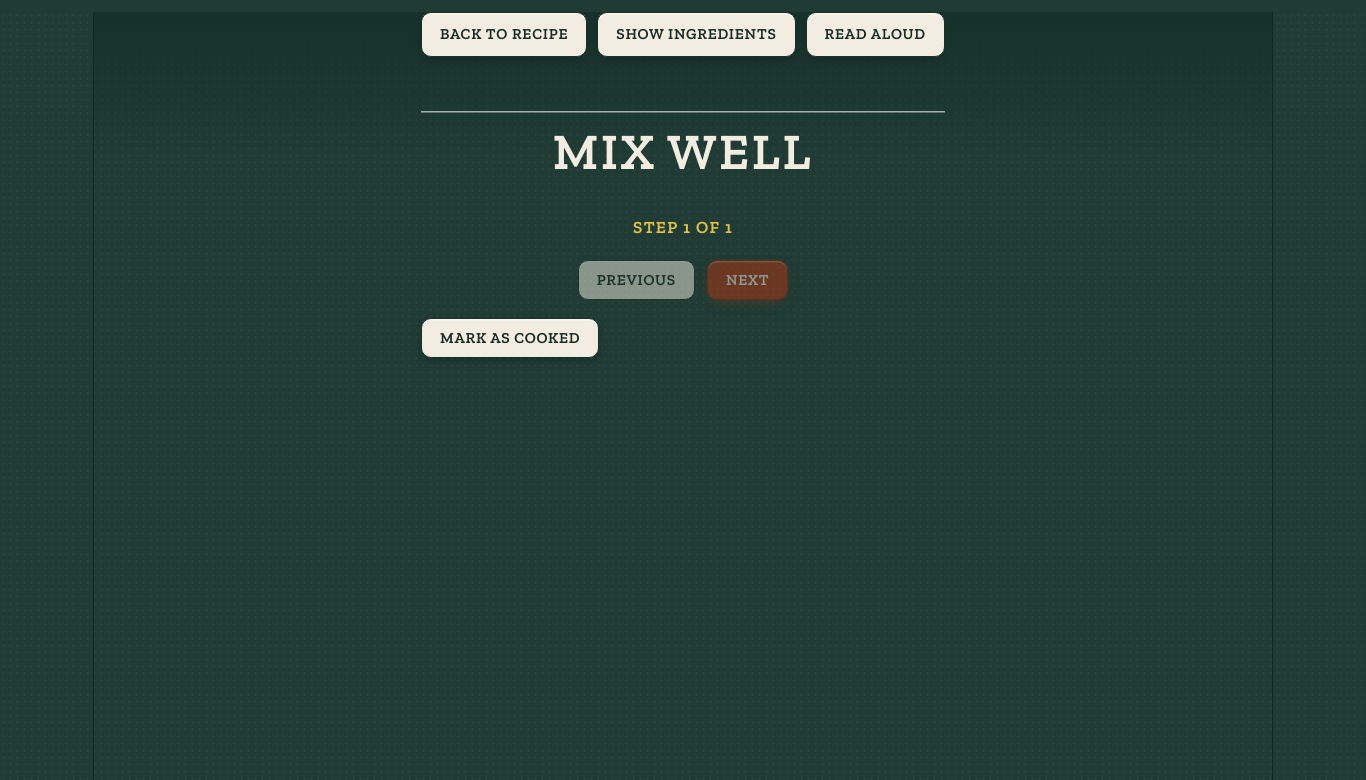
Test: after marking cooked, offers only the cupboard items that recipe used
Click the button "Mark as cooked".
click(510, 338)  # box [421,318,599,358]
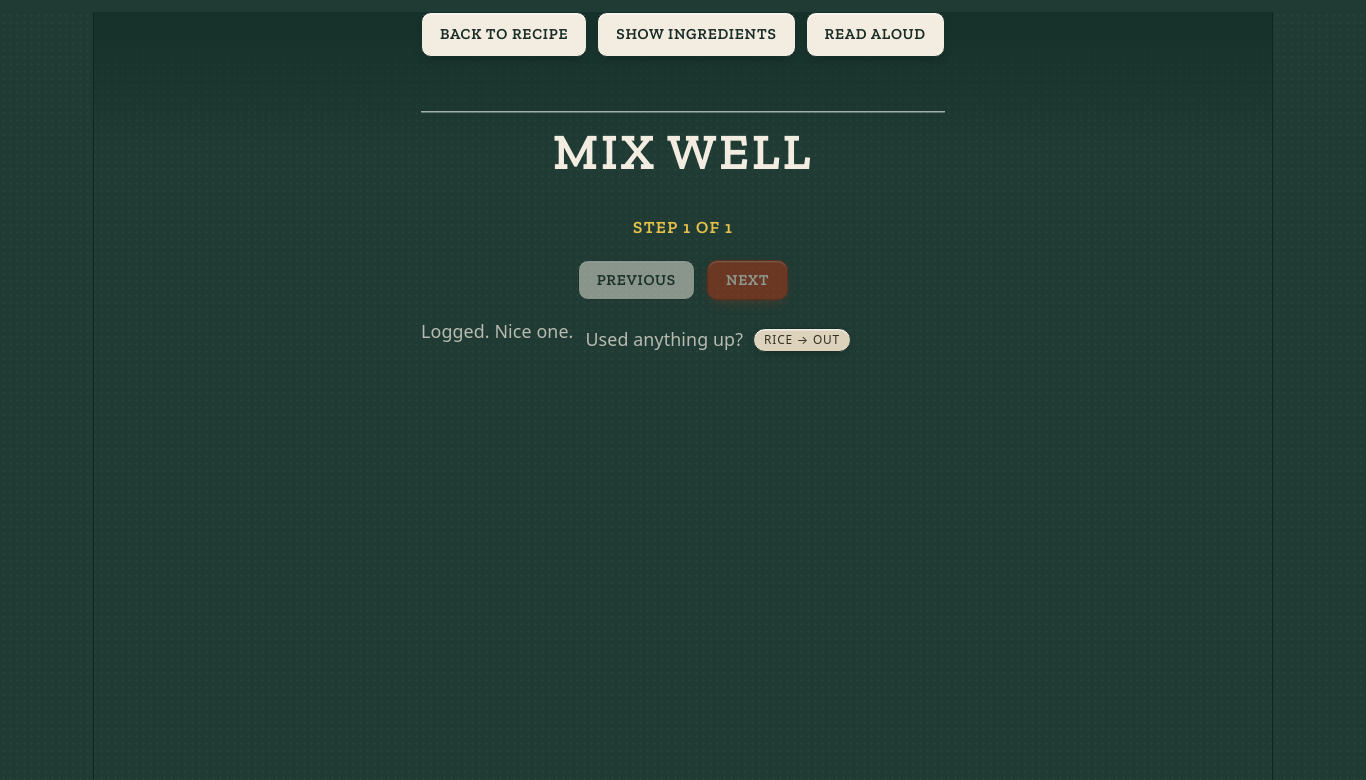
Now the button "Rice → out" is shown, box [753,328,851,352]
